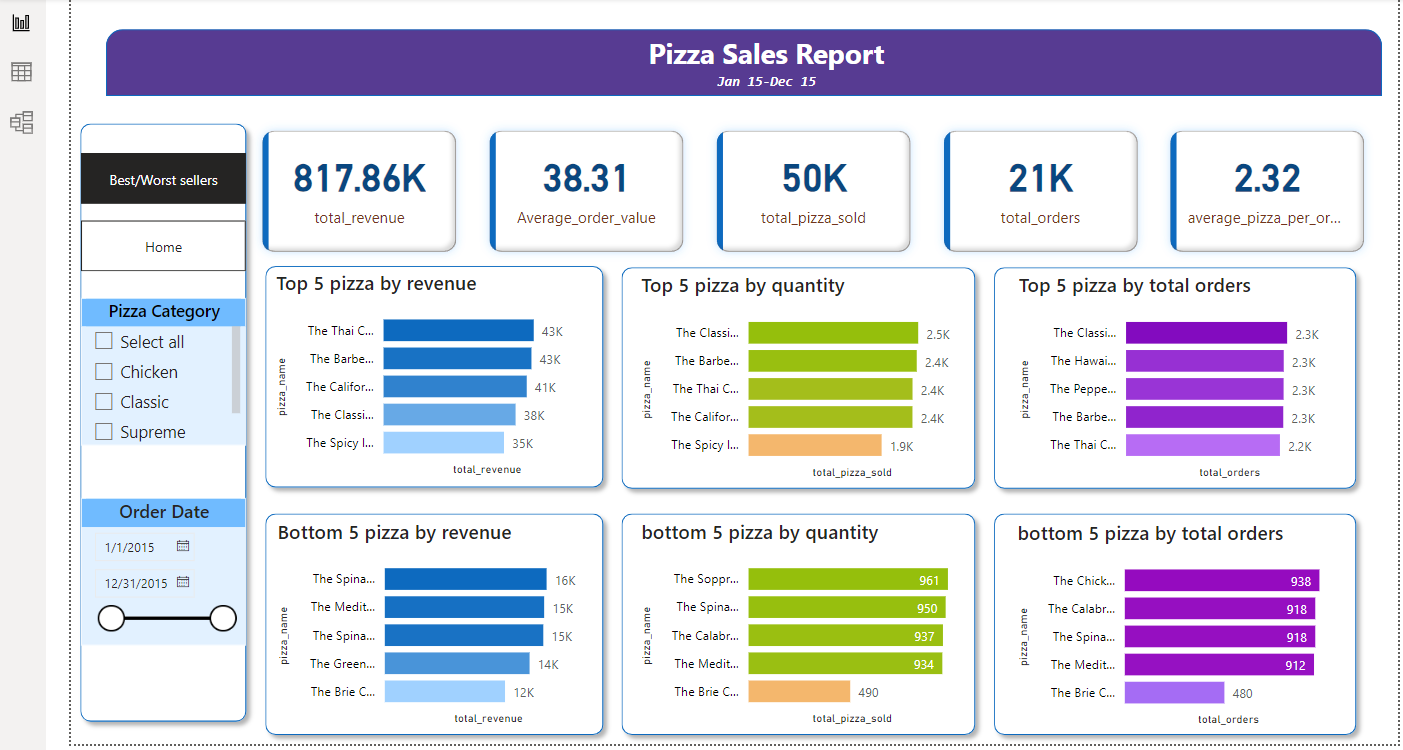

This screenshot's page, from the dashboard's own definition file:
{"tool":"powerbi","page":{"name":"Best/Worst sellers","canvas":[1280,720],"ordinal":1},"visuals":[{"type":"cardVisual","fields":{"Data":["pizza_sales.total_revenue","pizza_sales.Average_order_value","pizza_sales.total_pizza_sold","pizza_sales.total_orders","pizza_sales.average_pizza_per_order"]},"box":[168.6,112.4,1096.8,149.4],"z":0},{"type":"shape","box":[34.3,30.2,1231.2,64.4],"z":1000},{"type":"textbox","box":[477.1,30.2,386.6,64.4],"z":2000},{"type":"textbox","box":[49,381.5,1200,150],"z":3000},{"type":"shape","box":[178.2,249.5,344.1,231.7],"z":4000},{"type":"shape","box":[0,112.4,178.2,595],"z":5000},{"type":"slicer","title":"Pizza Category","fields":{"Values":["pizza_sales.pizza_category"]},"box":[9.6,289.3,159,142.6],"z":6000},{"type":"slicer","title":"Order Date","fields":{"Values":["pizza_sales.order_date"]},"box":[9.6,482.6,159,142.6],"z":7000},{"type":"shape","box":[522.4,250.9,359.2,231.7],"z":8000},{"type":"shape","box":[881.6,250.9,367.4,231.7],"z":9000},{"type":"shape","box":[881.6,488.1,367.4,231.7],"z":10000},{"type":"shape","box":[522.4,488.1,359.2,231.7],"z":11000},{"type":"shape","box":[178.2,488.1,344.1,231.7],"z":12000},{"type":"barChart","title":"Top 5 pizza by revenue","fields":{"Category":["pizza_sales.pizza_name"],"Y":["pizza_sales.total_revenue"]},"box":[193.3,261.9,314,204.3],"z":13000},{"type":"barChart","title":"Bottom 5 pizza by revenue","fields":{"Category":["pizza_sales.pizza_name"],"Y":["pizza_sales.total_revenue"]},"box":[194.7,501.8,314,204.3],"z":14000},{"type":"barChart","title":"Top 5 pizza by quantity","fields":{"Category":["pizza_sales.pizza_name"],"Y":["pizza_sales.total_pizza_sold"]},"box":[545.7,264.6,314,204.3],"z":15000},{"type":"barChart","title":"bottom 5 pizza by quantity","fields":{"Category":["pizza_sales.pizza_name"],"Y":["pizza_sales.total_pizza_sold"]},"box":[545.7,501.8,314,204.3],"z":16000},{"type":"barChart","title":"Top 5 pizza by total orders","fields":{"Category":["pizza_sales.pizza_name"],"Y":["pizza_sales.total_orders"]},"box":[909,264.6,314,204.3],"z":17000},{"type":"barChart","title":"bottom 5 pizza by total orders","fields":{"Category":["pizza_sales.pizza_name"],"Y":["pizza_sales.total_orders"]},"box":[907.6,503.2,314,204.3],"z":18000},{"type":"pageNavigator","box":[9.6,149.4,159,49.4],"z":19000},{"type":"pageNavigator","box":[9.6,215.3,159,49.4],"z":20000}]}

Visuals, with their boxes on the page's 1280x720 design canvas (x1, y1, x2, y2). These are canvas units, not pixel positions in the 1403x750 screenshot, which may show the page scaled, cropped or inside an application window:
cardVisual - pizza_sales.total_revenue x pizza_sales.Average_order_value: box=[169, 112, 1265, 262]
shape: box=[34, 30, 1266, 95]
textbox: box=[477, 30, 864, 95]
textbox: box=[49, 382, 1249, 532]
shape: box=[178, 250, 522, 481]
shape: box=[0, 112, 178, 707]
"Pizza Category" slicer: box=[10, 289, 169, 432]
"Order Date" slicer: box=[10, 483, 169, 625]
shape: box=[522, 251, 882, 483]
shape: box=[882, 251, 1249, 483]
shape: box=[882, 488, 1249, 720]
shape: box=[522, 488, 882, 720]
shape: box=[178, 488, 522, 720]
"Top 5 pizza by revenue" barChart: box=[193, 262, 507, 466]
"Bottom 5 pizza by revenue" barChart: box=[195, 502, 509, 706]
"Top 5 pizza by quantity" barChart: box=[546, 265, 860, 469]
"bottom 5 pizza by quantity" barChart: box=[546, 502, 860, 706]
"Top 5 pizza by total orders" barChart: box=[909, 265, 1223, 469]
"bottom 5 pizza by total orders" barChart: box=[908, 503, 1222, 708]
pageNavigator: box=[10, 149, 169, 199]
pageNavigator: box=[10, 215, 169, 265]
